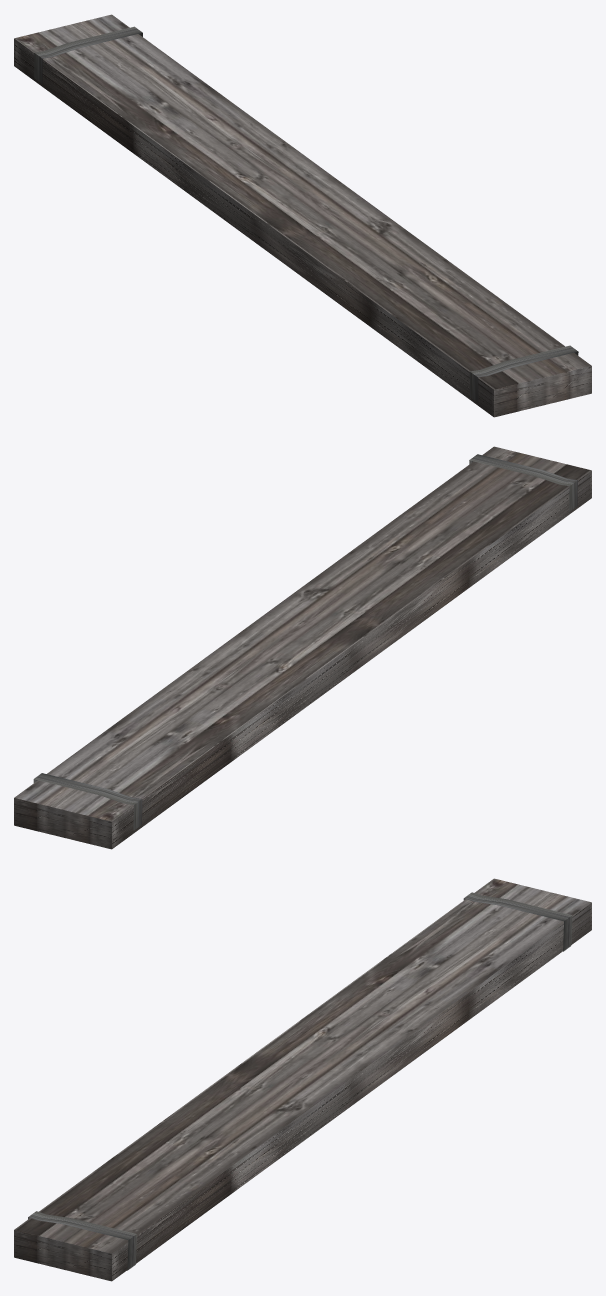
File: longplanks.glb
The picture shows the model from 3 angles, top to bottom: view 1: azimuth 30°, elevation 25°; view 2: azimuth 150°, elevation 25°; view 3: azimuth 330°, elevation 25°; orthographic projection.
Parts seen in each view (by area): view 1: Box001, Plane001, Plane002; view 2: Box001, Plane002, Plane001; view 3: Box001, Plane002, Plane001.
Boxes of the visible parts, x1,y1,x2,y2 form: Box001: (14,14,591,417); Plane001: (469,345,578,402); Plane002: (34,26,142,84); Box001: (14,446,591,849); Plane002: (33,773,142,830); Plane001: (469,454,577,511); Box001: (14,878,591,1281); Plane002: (463,892,572,951); Plane001: (28,1211,136,1270).
Size of the model in its own units: 0.2431 by 0.0715 by 2.01.
2 materials, 2 textured.
